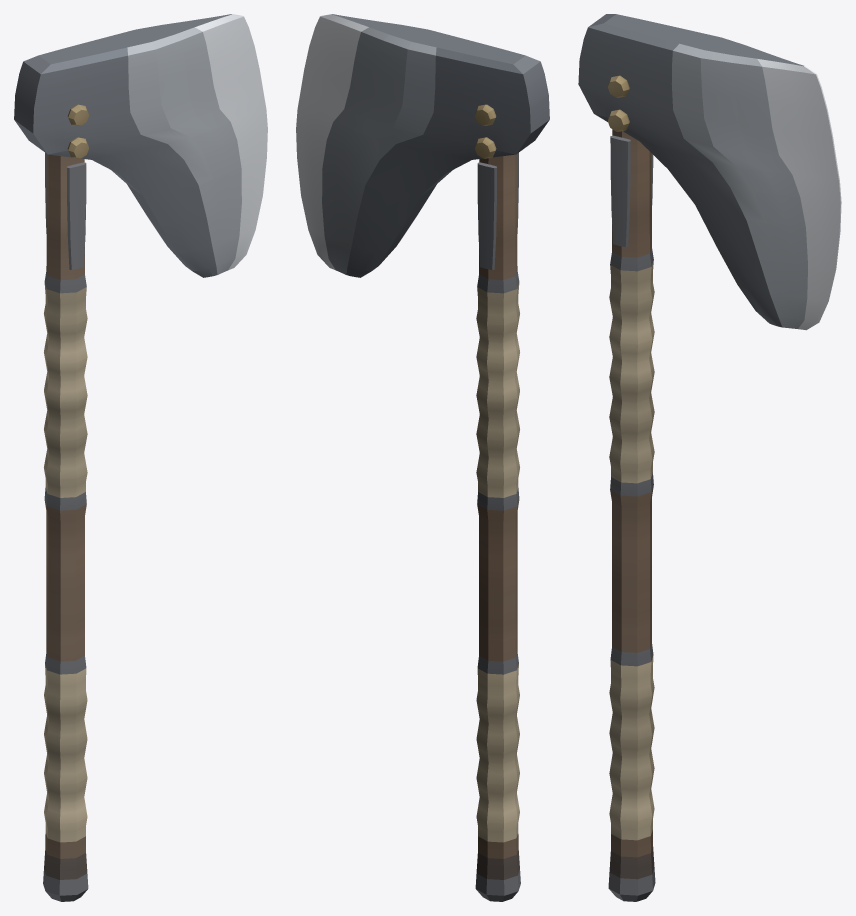
File: ironjaw-greataxe.glb
3 renders of one model, left to right at view 1: azimuth 30°, elevation 25°; view 2: azimuth 150°, elevation 25°; view 3: azimuth 330°, elevation 25°, orthographic. The views are drawn at different scales.
Visible parts, largest first — view 1: WPN_04_Greataxe_Ironjaw__HEAD.001, WPN_04_Greataxe_Ironjaw__HAFT.001, WPN_04_Greataxe_Ironjaw__RIVETS.001; view 2: WPN_04_Greataxe_Ironjaw__HEAD.001, WPN_04_Greataxe_Ironjaw__HAFT.001, WPN_04_Greataxe_Ironjaw__RIVETS.001; view 3: WPN_04_Greataxe_Ironjaw__HEAD.001, WPN_04_Greataxe_Ironjaw__HAFT.001, WPN_04_Greataxe_Ironjaw__RIVETS.001.
Part boxes in pixels (box(x1,y1,x2,y2)): WPN_04_Greataxe_Ironjaw__HEAD.001: box(14, 14, 267, 277); WPN_04_Greataxe_Ironjaw__HAFT.001: box(43, 154, 88, 901); WPN_04_Greataxe_Ironjaw__RIVETS.001: box(67, 104, 88, 158); WPN_04_Greataxe_Ironjaw__HEAD.001: box(296, 14, 549, 277); WPN_04_Greataxe_Ironjaw__HAFT.001: box(475, 154, 520, 901); WPN_04_Greataxe_Ironjaw__RIVETS.001: box(475, 104, 496, 158); WPN_04_Greataxe_Ironjaw__HEAD.001: box(578, 14, 841, 330); WPN_04_Greataxe_Ironjaw__HAFT.001: box(608, 129, 655, 901); WPN_04_Greataxe_Ironjaw__RIVETS.001: box(608, 75, 629, 131).
Bounding box in the file's own units: 1.24 × 4.1 × 0.28.
1 material, 1 textured.
